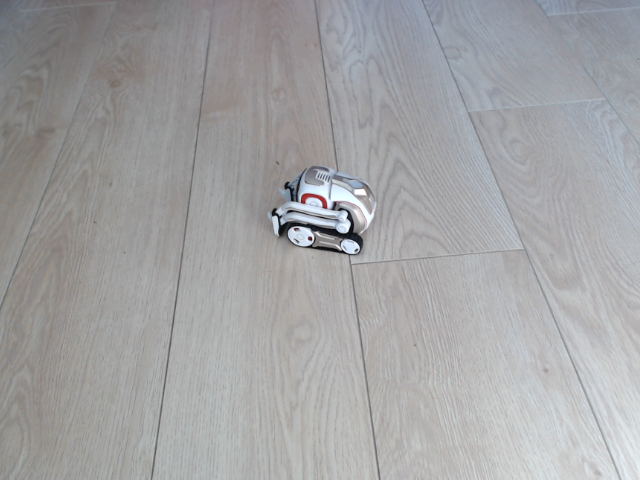cozmo: (266, 163, 381, 261)
